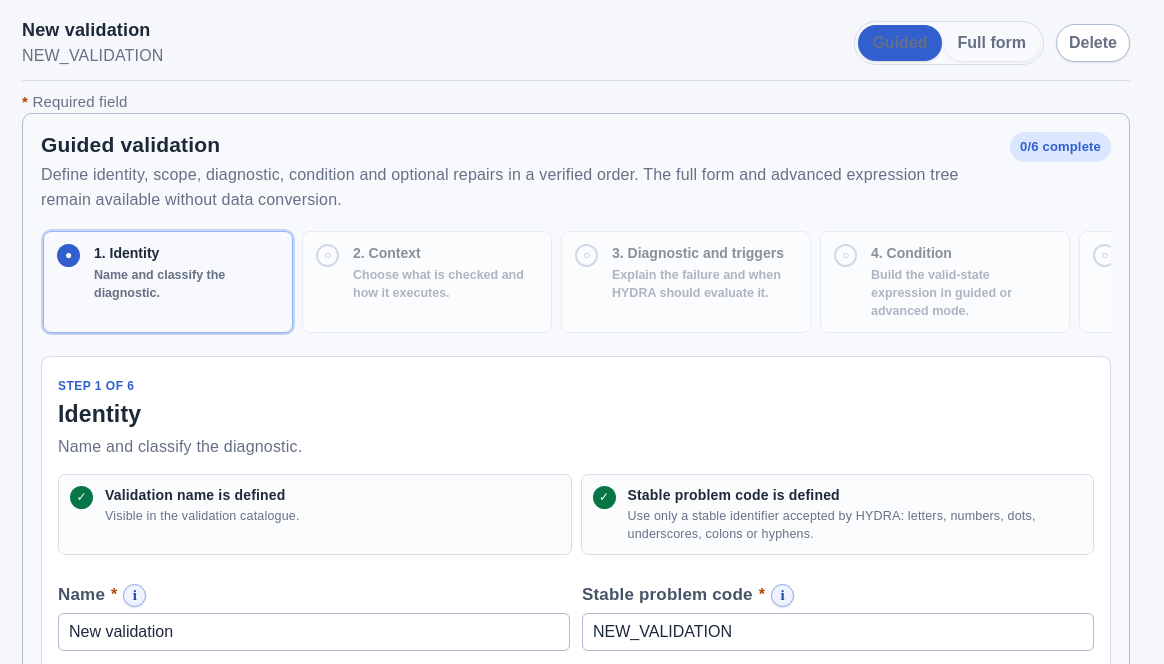
Test case: validation rule form guidance › marks the target feature as required for attribute rules
The image size is (1164, 664).
Click the button "Full form". click: (992, 43)
box: [944, 25, 1040, 61]
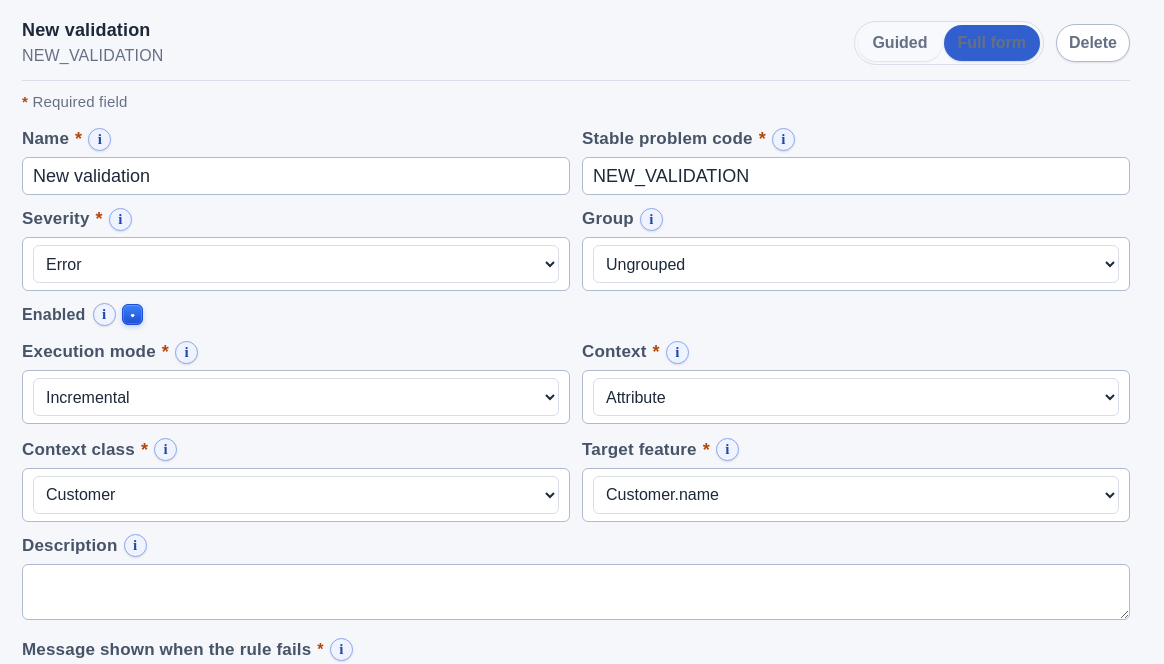
Expected: the button named "Information about Target feature" is shown, [716, 438, 739, 461]
